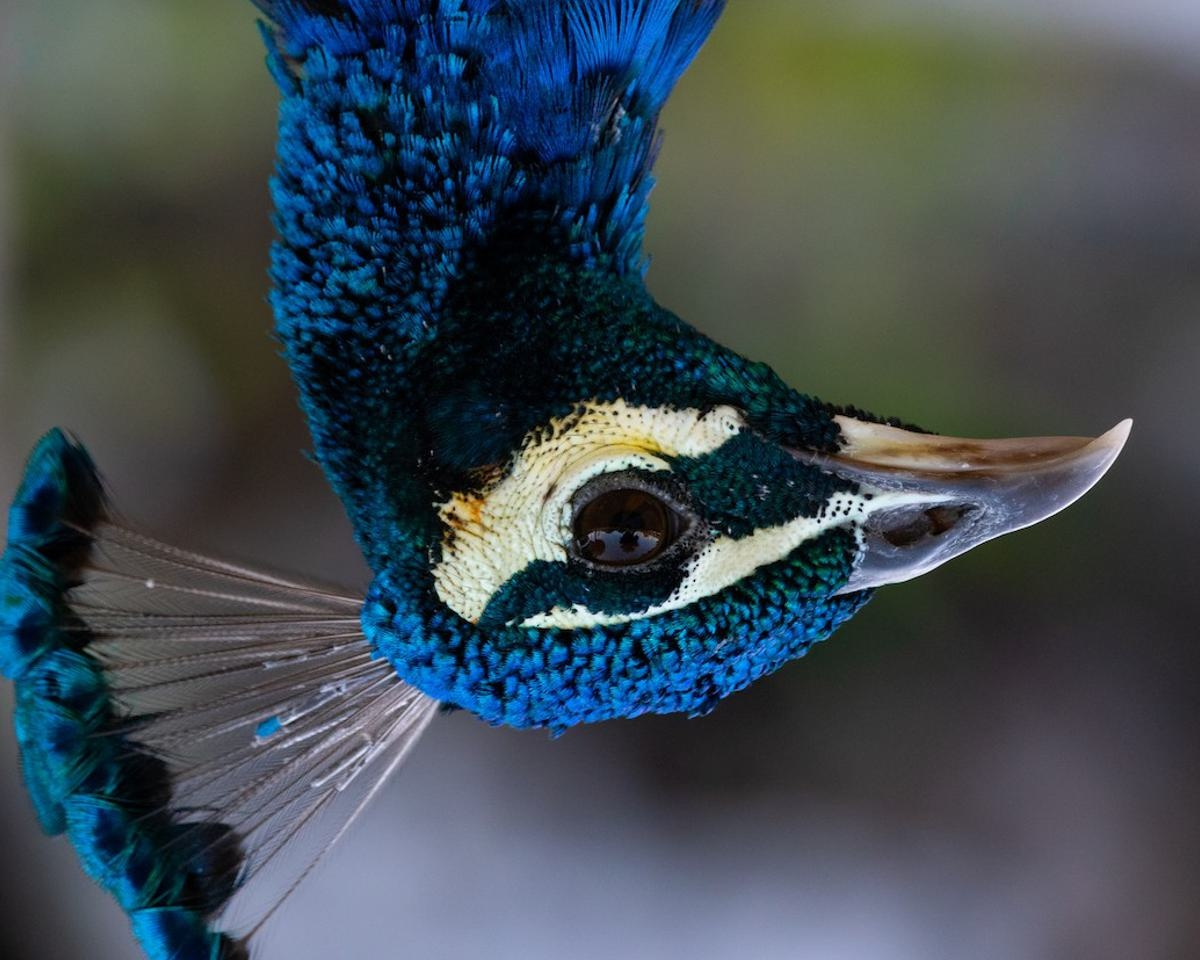peacock: (83, 1, 1123, 890)
